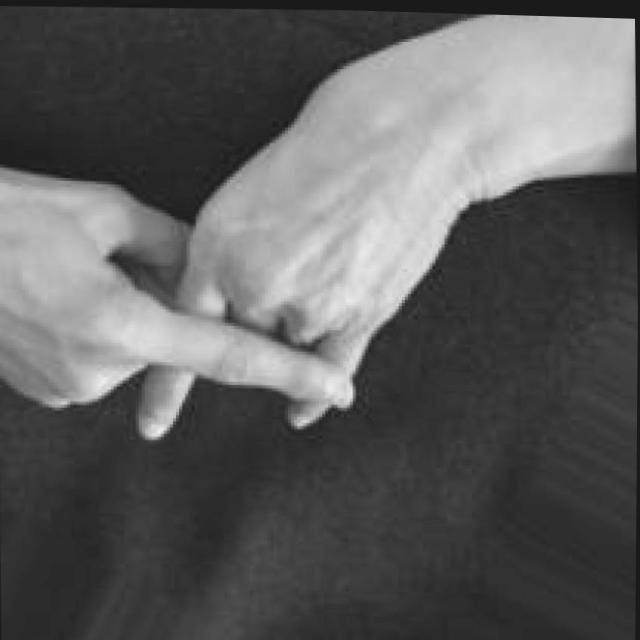H: (0, 3, 487, 454)
